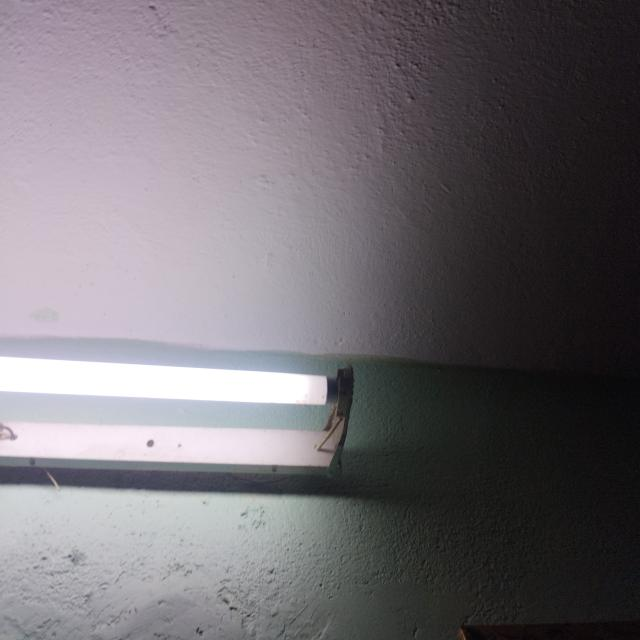tubelight_on: (0, 349, 356, 489)
